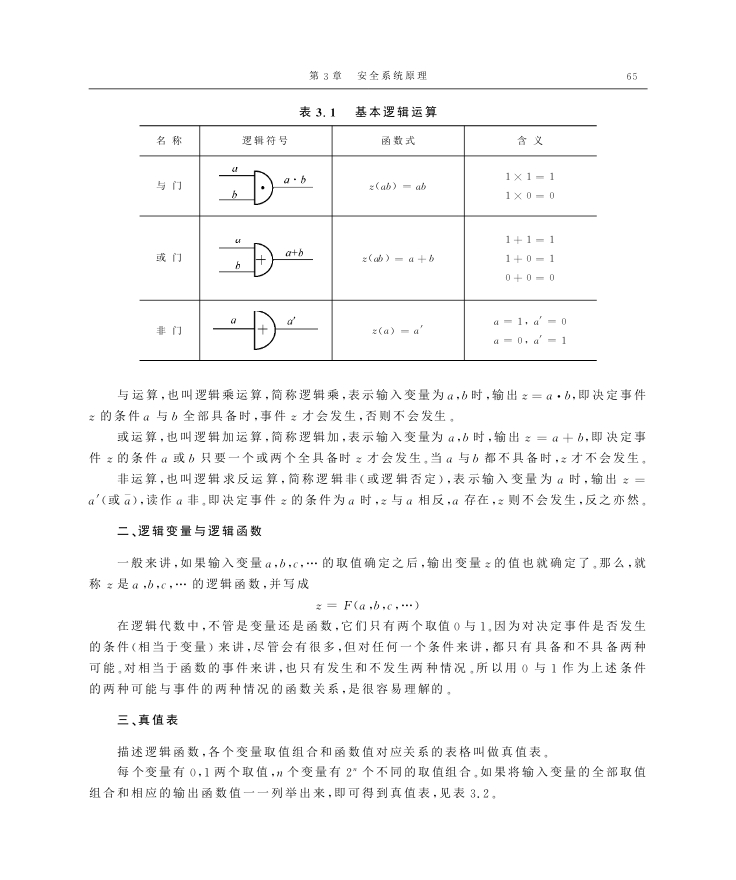table: (139, 125, 598, 360)
